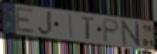E: (14, 6, 36, 36)
I: (68, 13, 74, 40)
J: (36, 10, 53, 36)
N: (120, 20, 142, 48)
P: (102, 18, 121, 44)
T: (81, 15, 96, 41)
